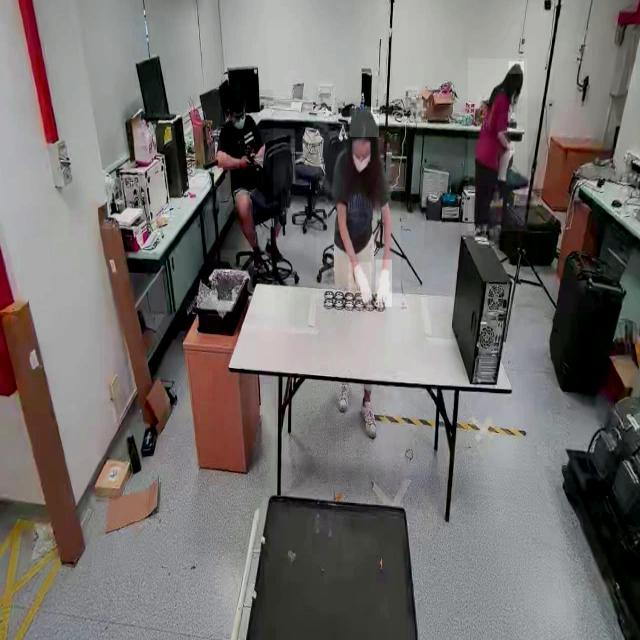hand_glove: (348, 262, 372, 310), (375, 260, 392, 308)
hand_noglove: (239, 151, 253, 173), (506, 141, 514, 153)
head_nohelmet: (349, 106, 379, 138), (229, 90, 246, 109), (508, 61, 524, 75)
person: (316, 110, 400, 307), (468, 59, 528, 232), (220, 90, 274, 250)
shoes: (359, 397, 378, 440)
